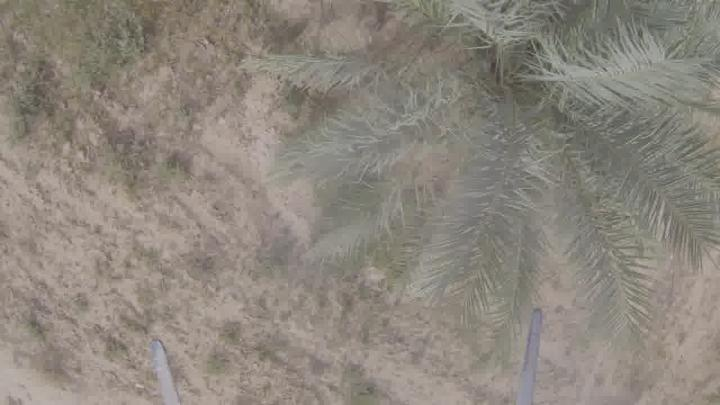Date-Palm-Crown: (357, 0, 694, 250)
